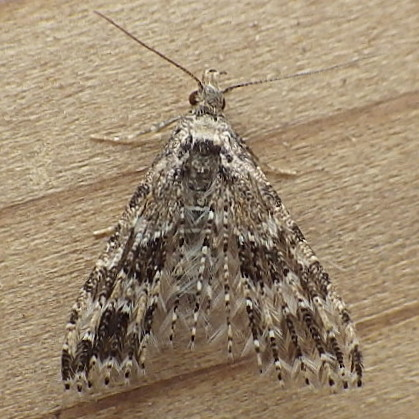Alucitidae: (56, 7, 376, 395)
moth: (58, 9, 378, 397)
